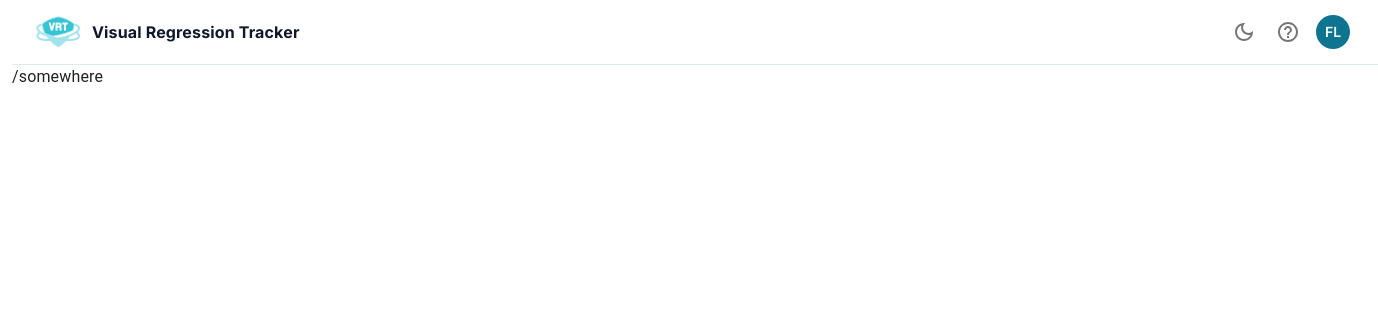
Scenario: Header › logged in › opens Profile and closes the menu
Click the button with test id "avatarMenuButton": coordinates (1333, 32) [1312, 11, 1354, 53]
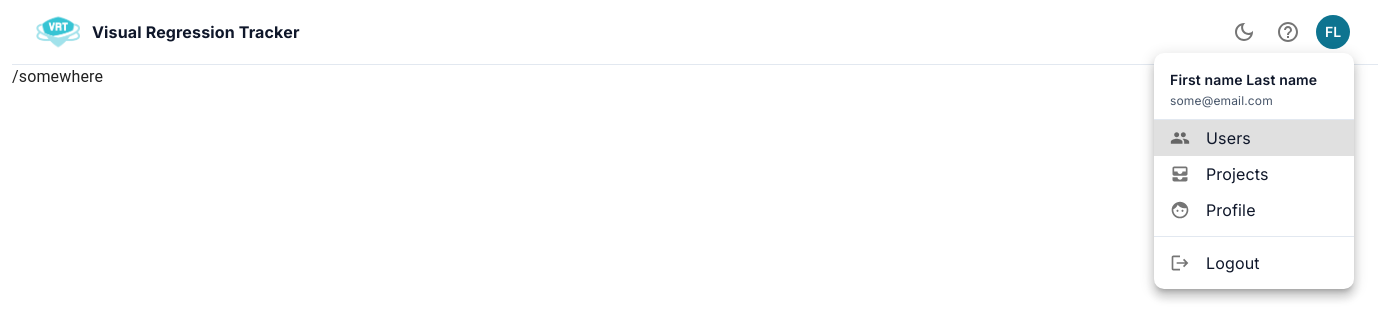
Click the menu item "Profile": coordinates (1213, 210) [1170, 200, 1256, 220]
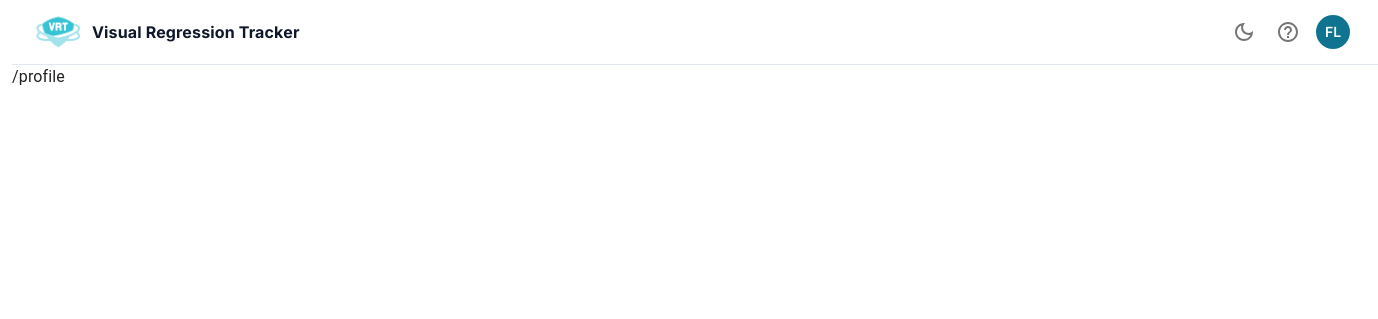
expect the text with test id "location" reads "/profile": met, box [12, 67, 65, 86]
